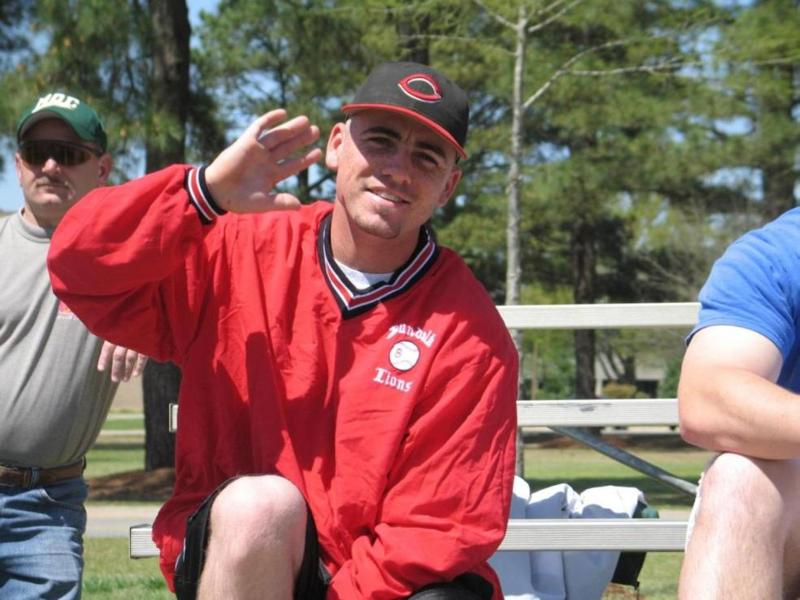person: (50, 63, 519, 600)
